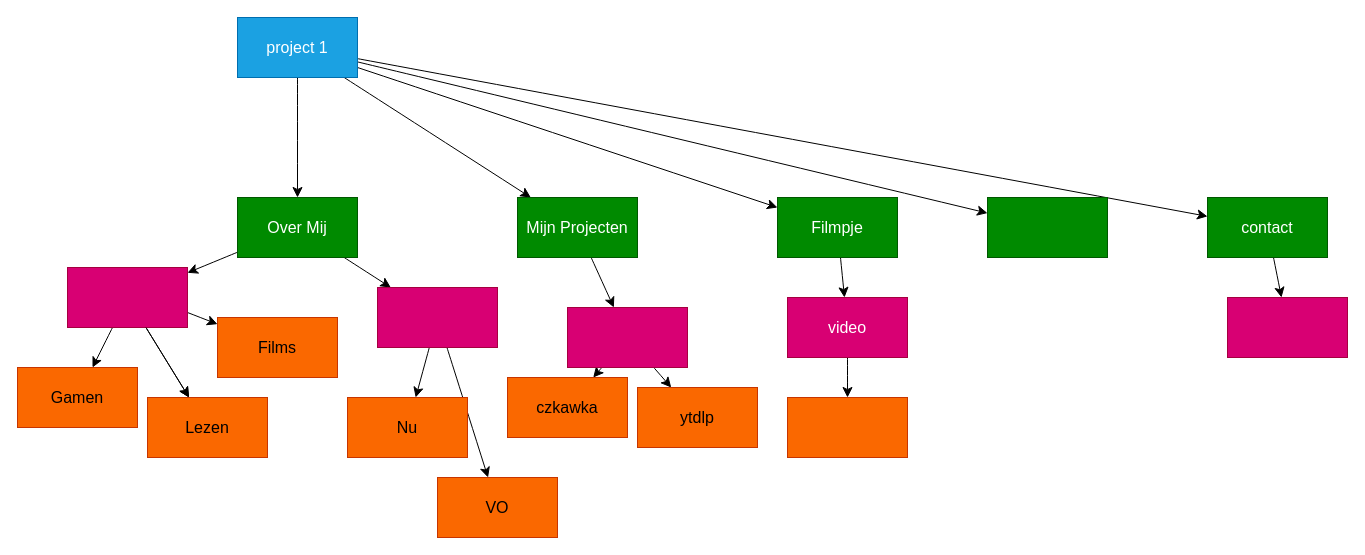
Some shapes in this 1365 by 555 pixel diagram are drawn without their labels. The shapes that lost their labels are listed below. From the top down, each one's box as (x1, y1, x2, y2) in pixels, then its label:
(986, 196, 1108, 258): interview
(66, 266, 188, 328): Hobbys
(376, 286, 498, 348): Opleiding
(566, 306, 688, 368): Placeholder
(1226, 296, 1348, 358): form
(786, 396, 908, 458): bottom text
